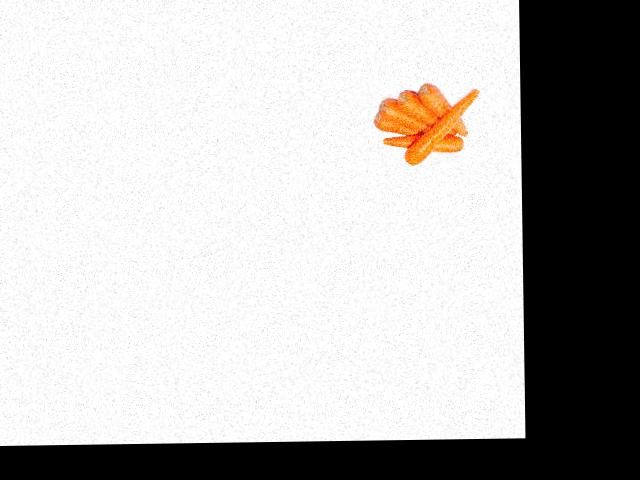carrot: (421, 76, 475, 137)
